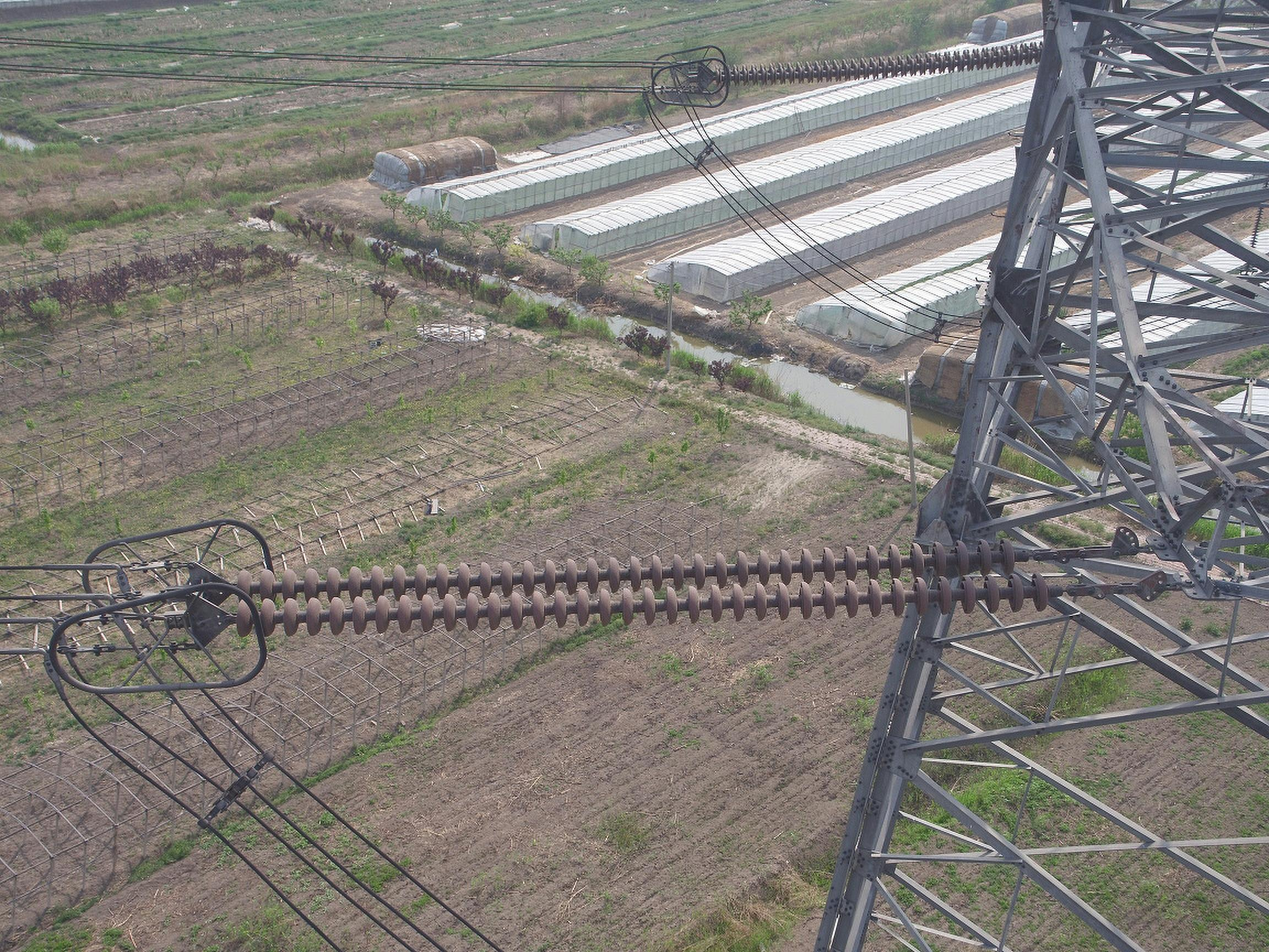insulator: (228, 533, 1053, 641), (713, 39, 1045, 88)
